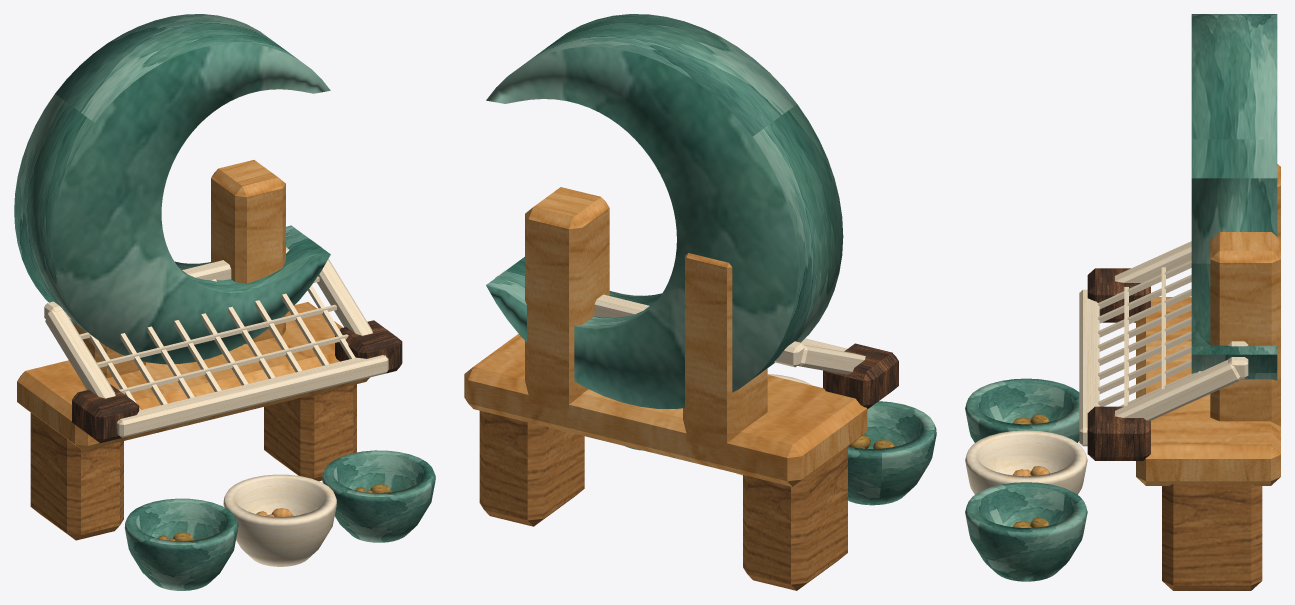
File: 04_BK候选_未校准.glb
3 renders of one model, left to right at view 1: azimuth 30°, elevation 25°; view 2: azimuth 150°, elevation 25°; view 3: azimuth 270°, elevation 25°, orthographic. The views are drawn at different scales.
Parts seen in each view (by area): view 1: moon_sorter; view 2: moon_sorter; view 3: moon_sorter.
Part boxes in pixels (x1,y1,x2,y2): moon_sorter: (14,14,435,590); moon_sorter: (464,14,936,590); moon_sorter: (965,14,1280,590).
Bounding box in the file's own units: 1.03 × 1.45 × 0.85.
Materials: 1 (1 with a texture image).
